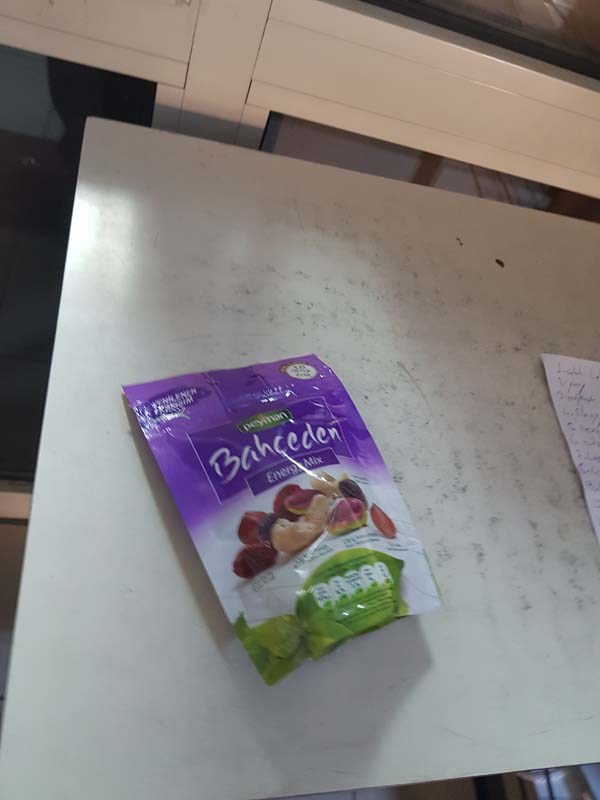bahcedenenergymix: (115, 348, 455, 689)
